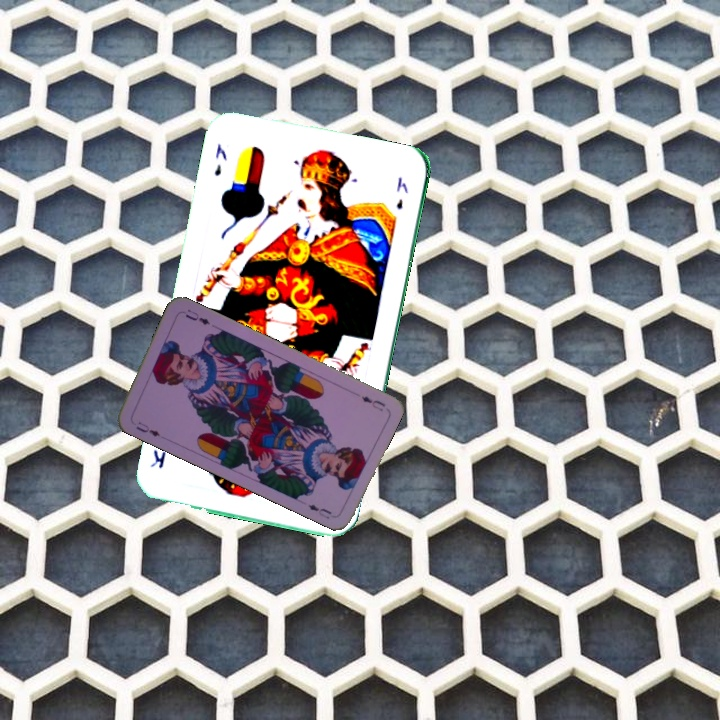EK: (210, 139, 230, 179)
EU: (357, 392, 388, 414), (132, 418, 163, 439)
